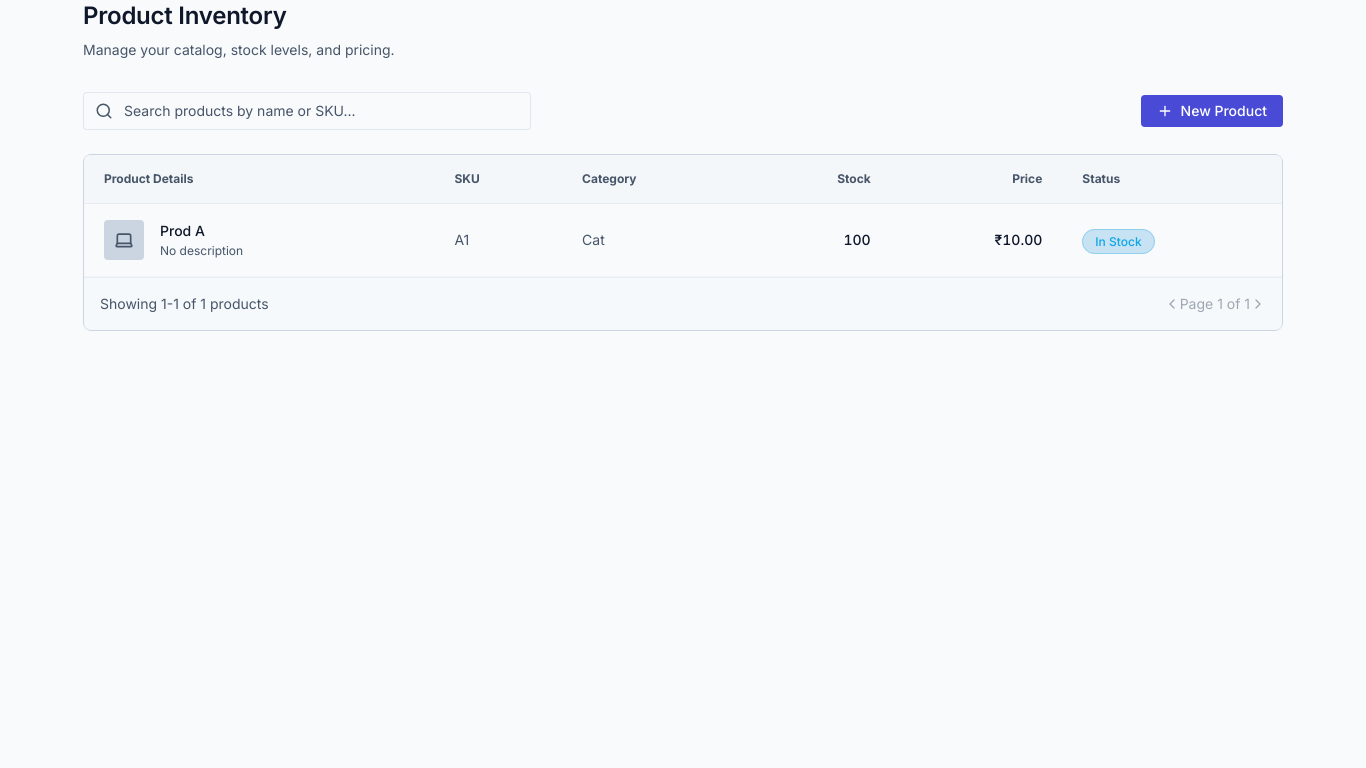
Scenario: Products Component › opens edit modal
What coordinates should you click on to do the following:
click the text "Prod A"
I would click on:
 (182, 230)
Its box is top-left (160, 222), bottom-right (205, 239).
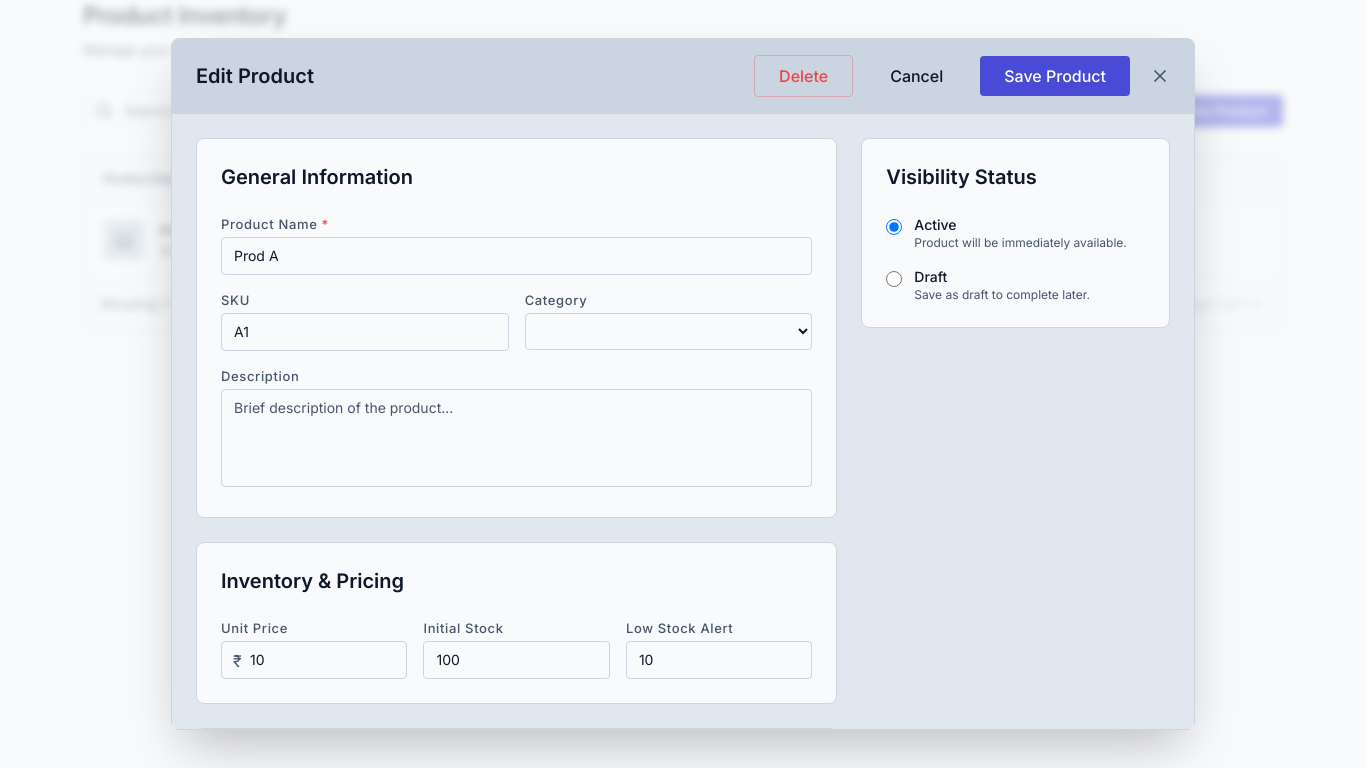
Expected: the heading "Edit Product" is shown, top-left (196, 62), bottom-right (314, 90)
